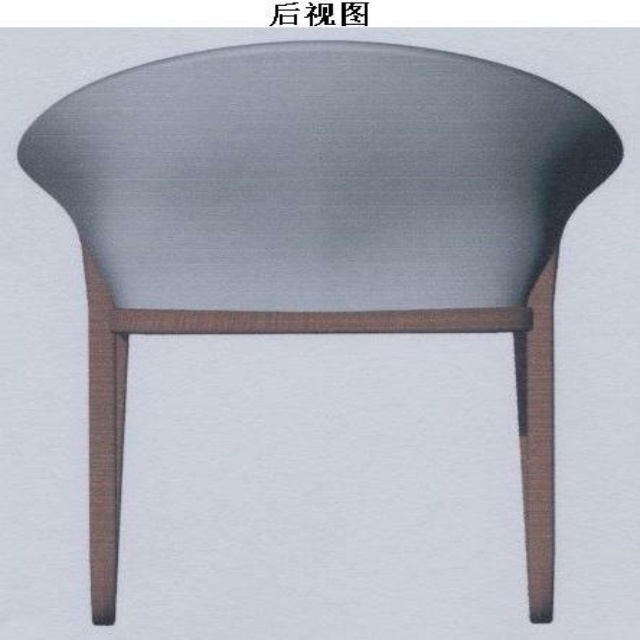obstacle: (3, 30, 633, 639)
